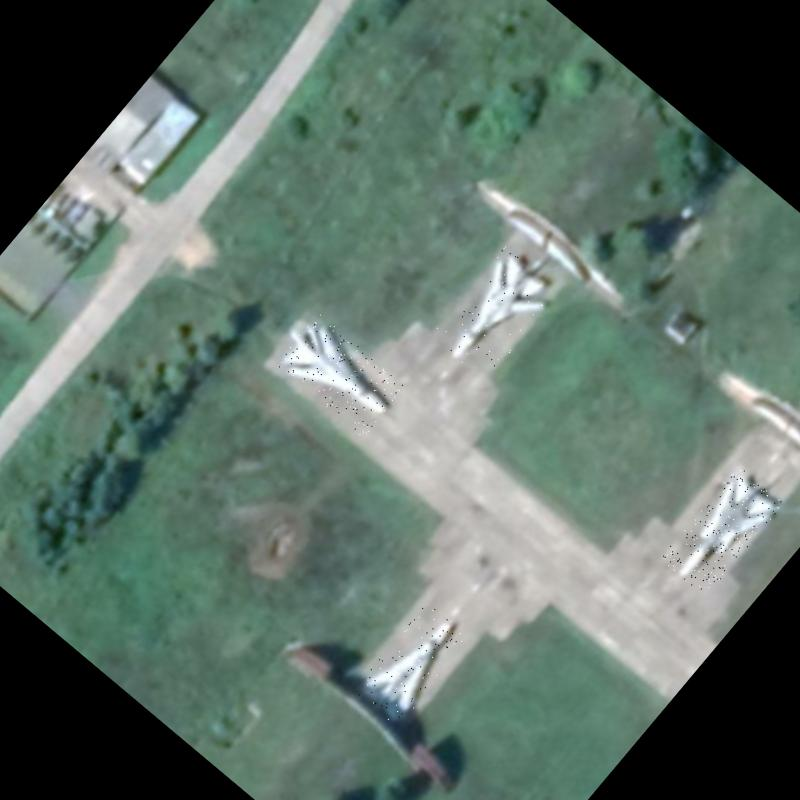A20: (427, 246, 560, 384), (273, 312, 406, 438), (659, 465, 783, 597), (351, 599, 473, 729)
